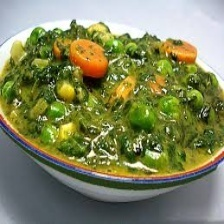sabzi: (0, 16, 223, 176)
